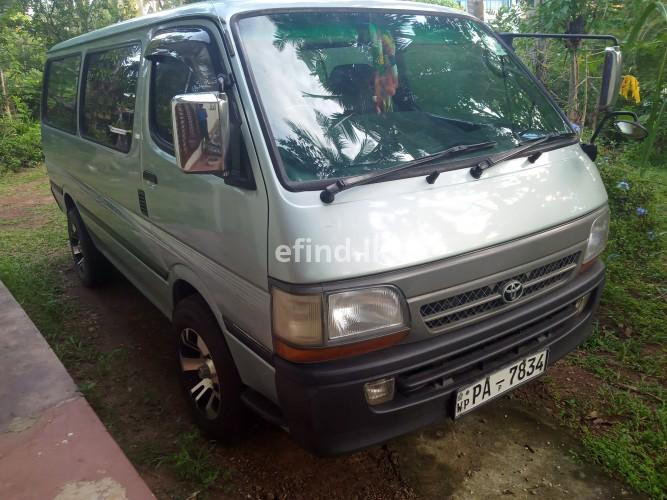van: (41, 2, 645, 458)
